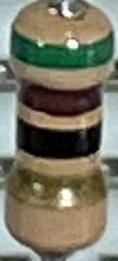Black: (15, 115, 101, 159)
Brown: (19, 76, 104, 115)
Green: (9, 25, 113, 71)
Side-Gold: (9, 162, 109, 205)
